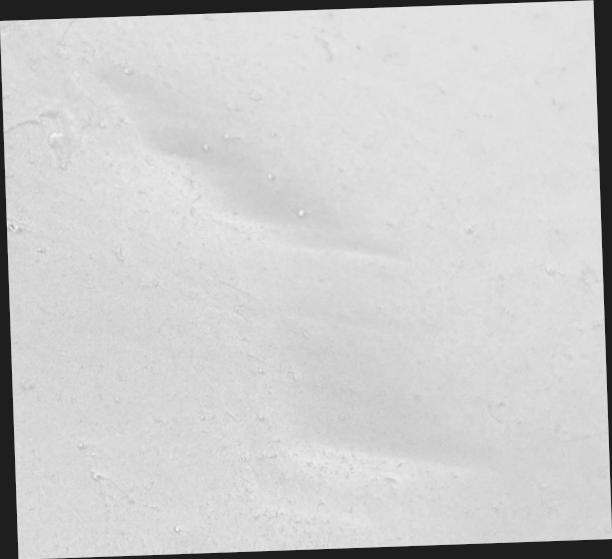dent: (1, 0, 612, 559)
